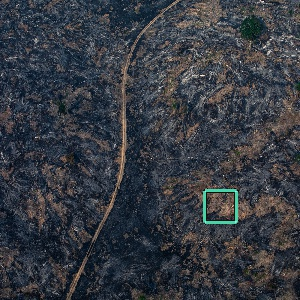square: (202, 189, 238, 225)
